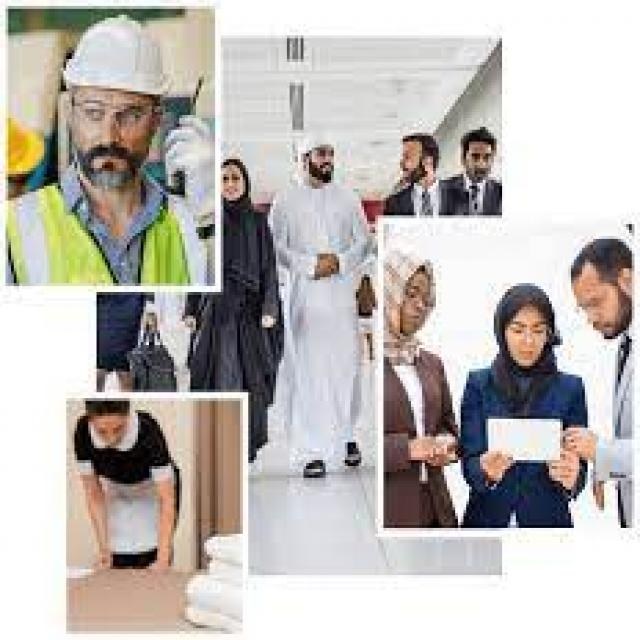Reflective-Jacket: (0, 180, 207, 292)
Safety-Helmet: (55, 15, 177, 106)
